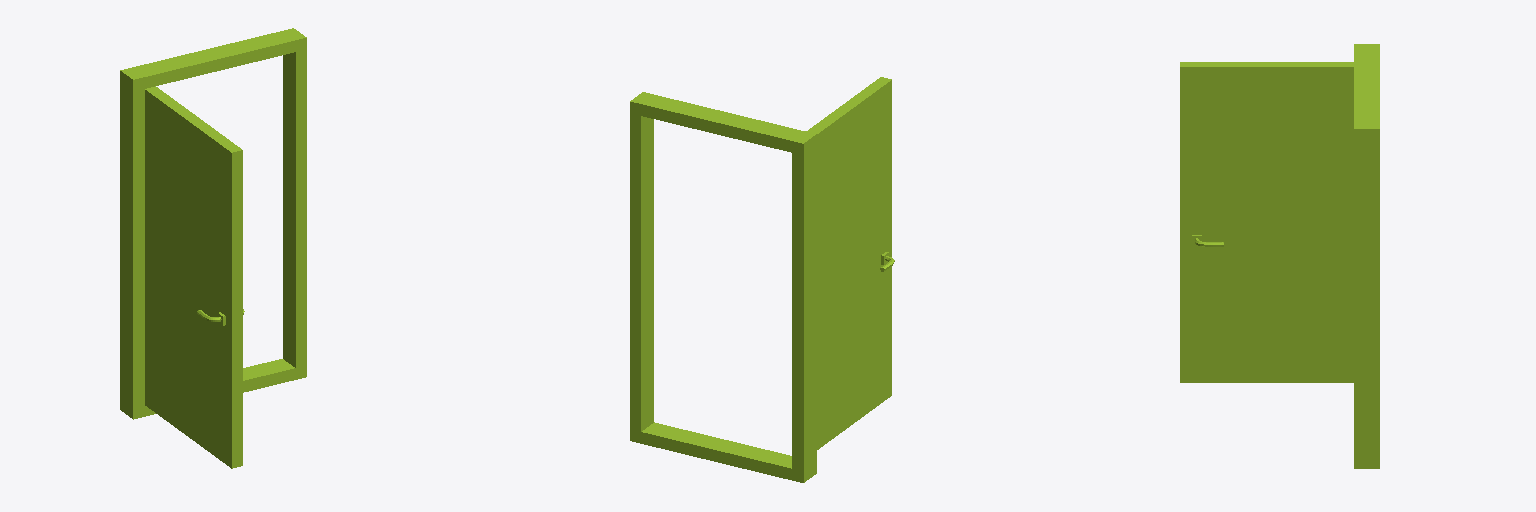
File: door3.obj
The picture shows the model from 3 angles: view 1: azimuth 30°, elevation 25°; view 2: azimuth 150°, elevation 25°; view 3: azimuth 270°, elevation 25°; orthographic projection.
Visible parts, largest first — view 1: Doors; view 2: Doors; view 3: Doors.
Part boxes in pixels (bbox=[...]): Doors: bbox=[120, 28, 306, 468]; Doors: bbox=[630, 77, 894, 482]; Doors: bbox=[1180, 44, 1379, 468].
Size of the model in its own units: 2.33 by 4.3 by 2.3.